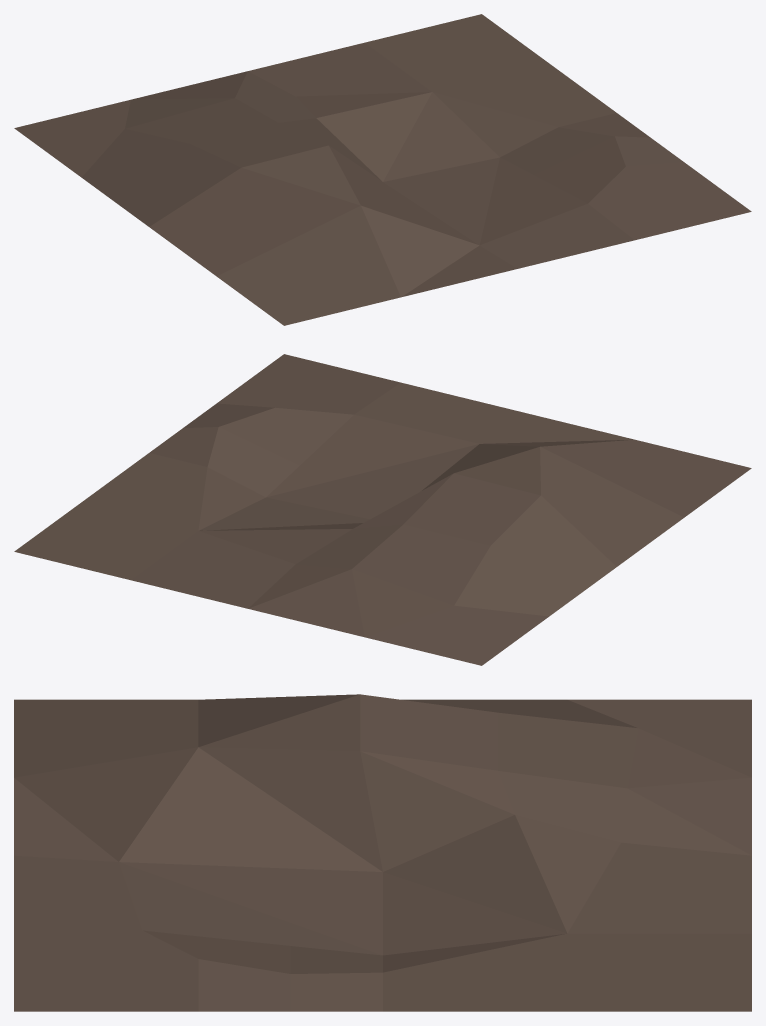
Rendered from Floor05.fbx.
3 renders of one model, top to bottom at view 1: azimuth 30°, elevation 25°; view 2: azimuth 150°, elevation 25°; view 3: azimuth 270°, elevation 25°, orthographic. The views are drawn at different scales.
Parts seen in each view (by area): view 1: Floor05; view 2: Floor05; view 3: Floor05.
Boxes of the visible parts, x1,y1,x2,y2 form: Floor05: (14,14,751,325); Floor05: (14,354,751,665); Floor05: (14,694,751,1011).
Bounding box in the file's own units: 2032 × 257 × 2032.
